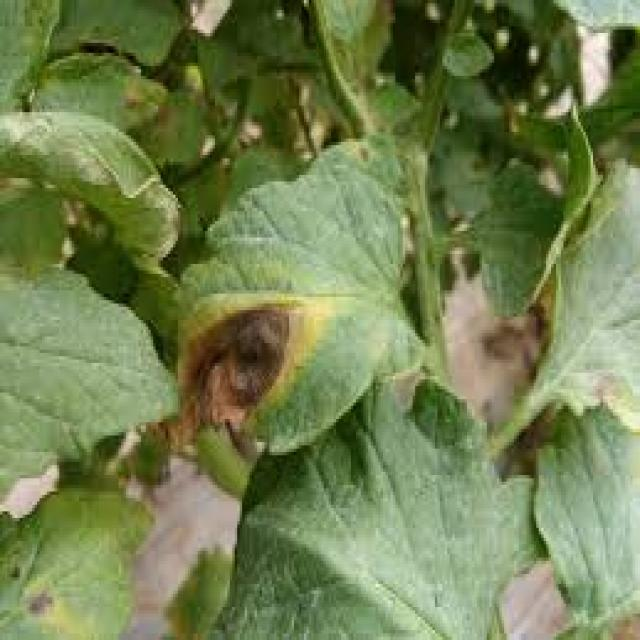bercak_daun: (170, 206, 390, 451)
